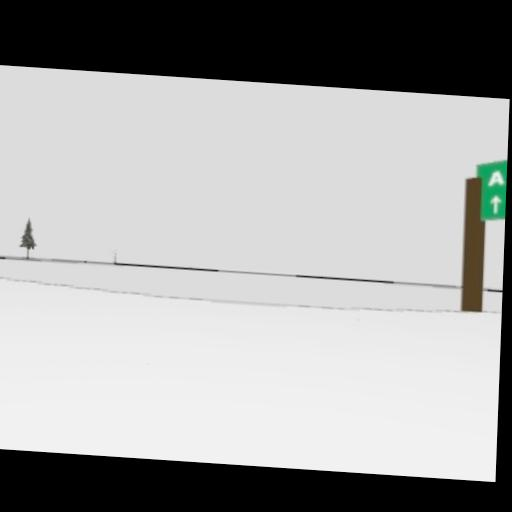A: (488, 167, 507, 186)
Straight: (488, 192, 503, 214)
